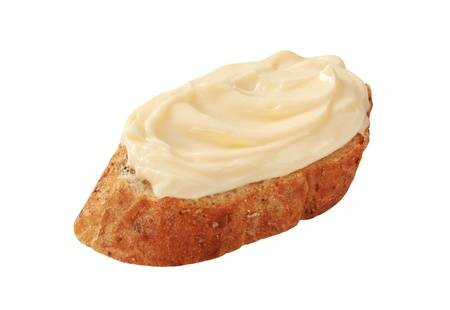slice of bread: (72, 75, 378, 267)
